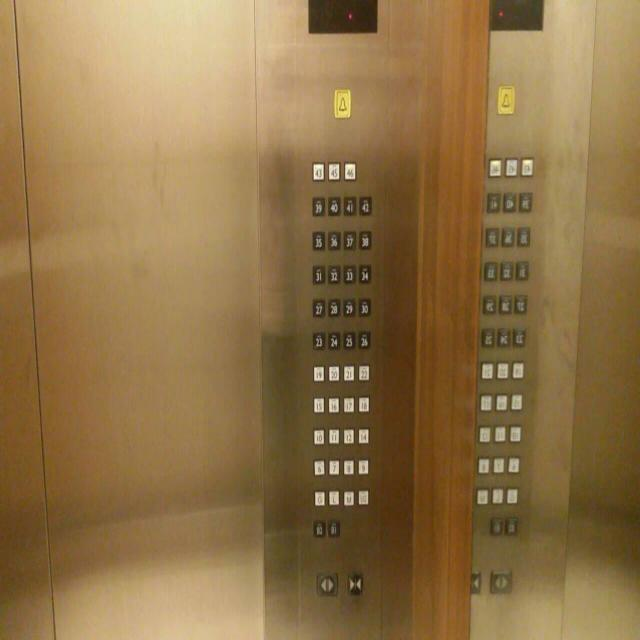10: (312, 426, 324, 445)
11: (328, 425, 340, 444)
12: (342, 425, 354, 444)
14: (357, 425, 369, 444)
15: (313, 394, 325, 413)
16: (328, 394, 340, 413)
17: (342, 394, 354, 413)
18: (358, 394, 370, 413)
19: (312, 362, 324, 381)
20: (328, 362, 340, 381)
21: (342, 362, 354, 381)
22: (358, 362, 370, 381)
23: (312, 329, 326, 349)
24: (327, 329, 341, 349)
25: (341, 329, 355, 349)
26: (357, 329, 371, 349)
27: (311, 295, 325, 317)
28: (327, 295, 341, 317)
29: (342, 295, 356, 317)
30: (357, 295, 371, 317)
31: (311, 262, 325, 284)
32: (327, 262, 341, 284)
33: (342, 262, 356, 284)
34: (358, 262, 372, 284)
35: (311, 228, 325, 250)
36: (327, 228, 341, 250)
37: (342, 228, 356, 250)
38: (358, 228, 372, 250)
39: (311, 194, 325, 216)
40: (327, 194, 341, 216)
41: (342, 194, 356, 216)
42: (358, 194, 372, 216)
43: (311, 159, 325, 181)
45: (327, 159, 341, 181)
46: (343, 159, 357, 181)
6: (313, 456, 325, 476)
7: (328, 456, 340, 476)
8: (342, 456, 354, 476)
9: (356, 456, 368, 476)
B1: (328, 518, 340, 538)
B2: (314, 519, 326, 539)
G: (314, 488, 326, 508)
L: (328, 488, 340, 508)
M: (342, 488, 354, 508)
UG: (357, 487, 369, 507)
alarm: (333, 85, 351, 119), (497, 82, 515, 116)
close: (346, 570, 364, 596)
open: (315, 570, 339, 596), (489, 568, 513, 594)
unknown: (507, 452, 520, 476), (488, 156, 502, 178), (504, 156, 518, 178), (520, 156, 534, 178), (486, 190, 500, 212), (503, 190, 517, 212), (518, 190, 532, 212), (517, 225, 531, 247), (501, 226, 515, 248), (486, 227, 500, 249), (484, 260, 498, 282), (500, 260, 514, 282), (515, 260, 529, 282), (514, 292, 528, 314), (498, 292, 512, 314), (482, 294, 496, 316), (482, 326, 496, 348), (497, 326, 511, 348), (512, 326, 526, 348), (492, 452, 506, 474), (496, 358, 509, 381), (480, 358, 493, 381), (510, 389, 523, 412), (479, 391, 492, 413), (494, 390, 507, 412), (508, 420, 521, 442), (493, 422, 506, 444), (478, 422, 491, 444), (476, 454, 489, 476), (506, 484, 519, 506), (491, 484, 504, 506), (490, 516, 503, 538), (512, 358, 524, 381), (506, 513, 518, 536), (476, 484, 488, 506)
